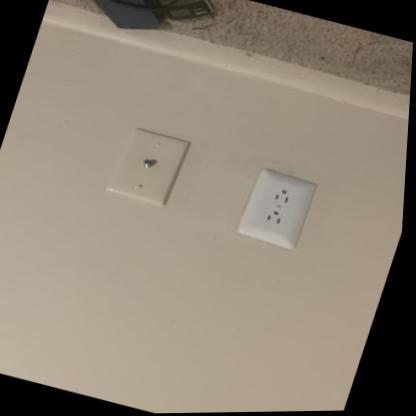OUTLET: (236, 168, 318, 252)
